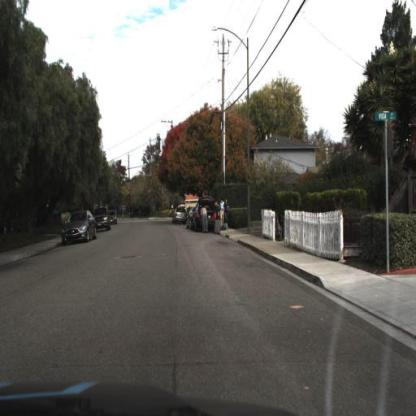car: (58, 203, 102, 252), (60, 210, 100, 246), (193, 196, 219, 234)
pedestrian: (212, 199, 220, 225), (202, 206, 209, 234), (225, 199, 230, 229), (221, 199, 226, 229)
